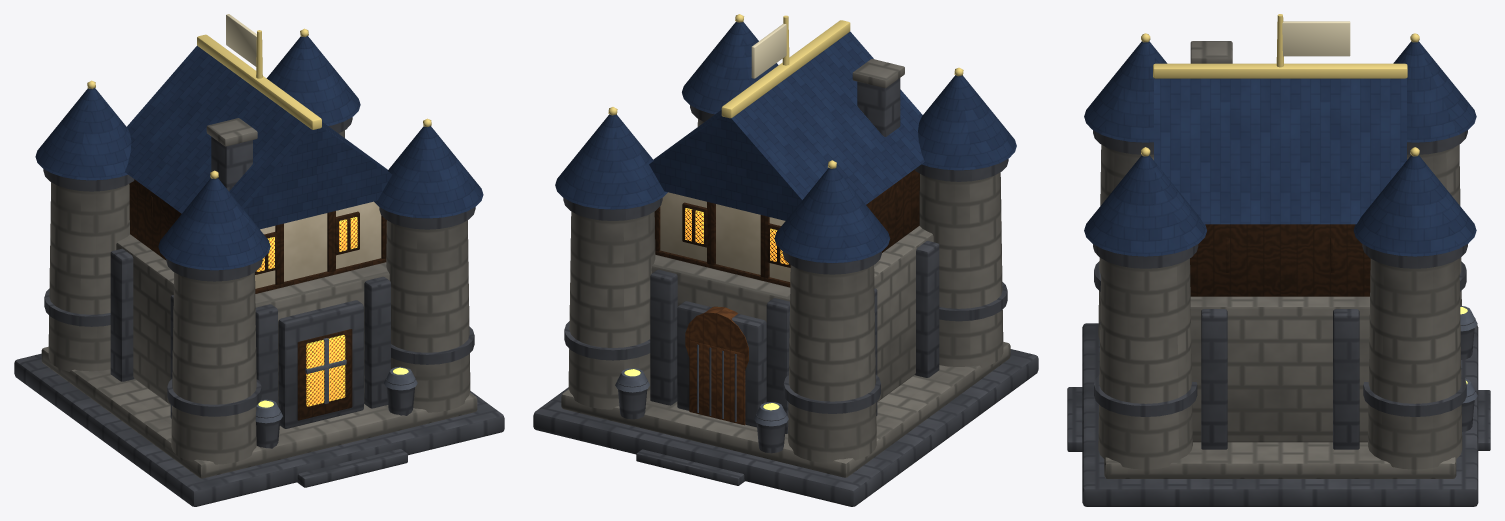
Rendered from building_town_center.glb.
The picture shows the model from 3 angles, left to right: view 1: azimuth 30°, elevation 25°; view 2: azimuth 150°, elevation 25°; view 3: azimuth 270°, elevation 25°; orthographic projection. The views are drawn at different scales.
Parts seen in each view (by area): view 1: building_town_center; view 2: building_town_center; view 3: building_town_center.
Boxes of the visible parts, x1=… form: building_town_center: x1=14, y1=14, x2=504, y2=506; building_town_center: x1=533, y1=14, x2=1038, y2=506; building_town_center: x1=1067, y1=14, x2=1490, y2=506.
Size of the model in its own units: 7.2 by 8.23 by 7.7.
Materials: 11 (8 with a texture image).
